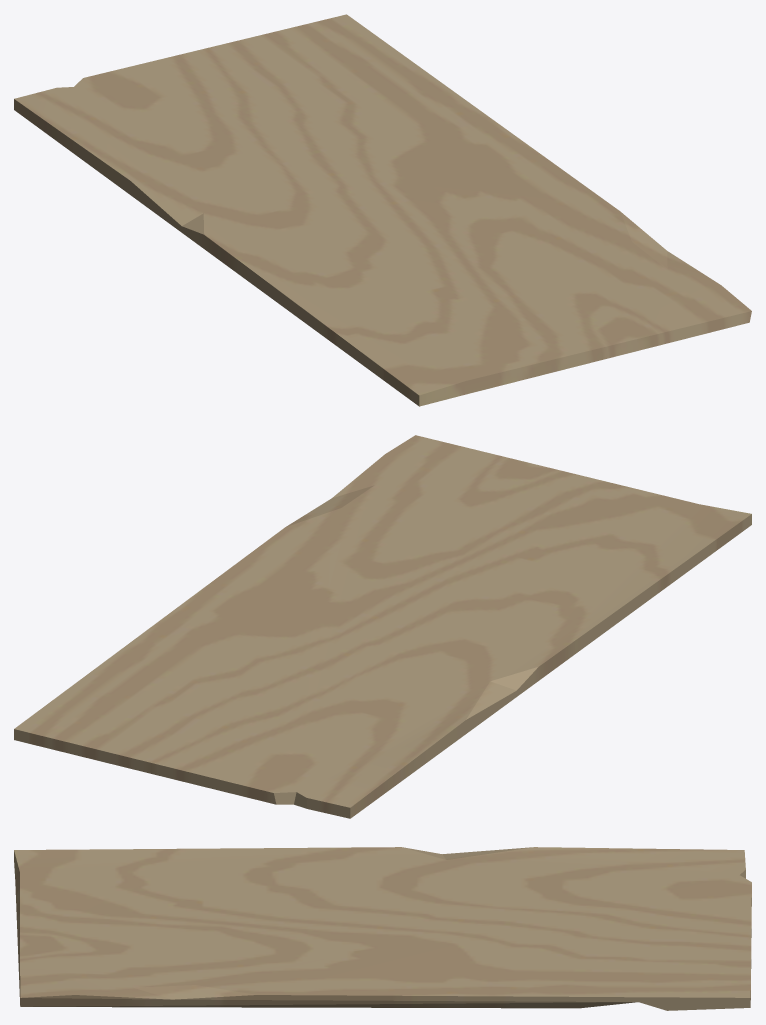
Rendered from SM_Prop_Plywood_01.obj.
3 renders of one model, top to bottom at view 1: azimuth 30°, elevation 25°; view 2: azimuth 150°, elevation 25°; view 3: azimuth 270°, elevation 25°, orthographic. The views are drawn at different scales.
Parts seen in each view (by area): view 1: SM_Prop_Plywood_01_0; view 2: SM_Prop_Plywood_01_0; view 3: SM_Prop_Plywood_01_0.
Part boxes in pixels (box(x1,y1,x2,y2)): SM_Prop_Plywood_01_0: box(14, 14, 751, 406); SM_Prop_Plywood_01_0: box(14, 435, 751, 818); SM_Prop_Plywood_01_0: box(14, 847, 751, 1010).
Bounding box in the file's own units: 1.34 × 0.0674 × 2.83.
1 material, 1 textured.
